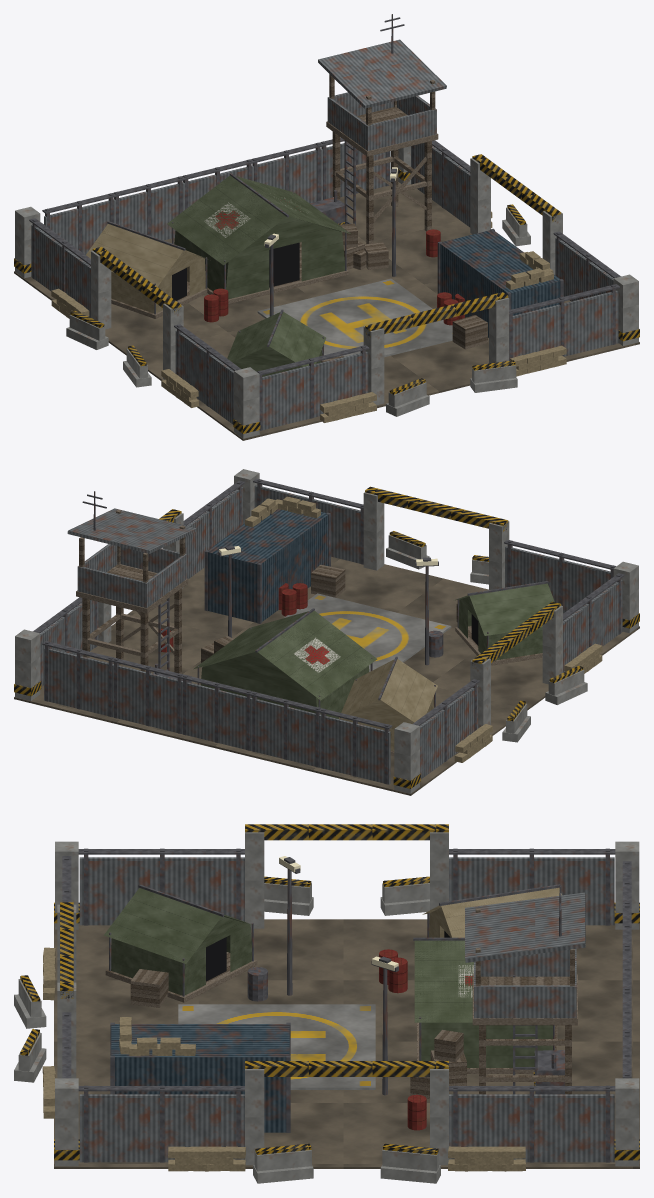
File: RefugeeCampBase.obj
3 renders of one model, top to bottom at view 1: azimuth 30°, elevation 25°; view 2: azimuth 150°, elevation 25°; view 3: azimuth 270°, elevation 25°, orthographic. The views are drawn at different scales.
Visible parts, largest first — view 1: RefugeeCampBase; view 2: RefugeeCampBase; view 3: RefugeeCampBase.
Boxes of the visible parts, bbox=[...] form: RefugeeCampBase: bbox=[14, 14, 639, 440]; RefugeeCampBase: bbox=[14, 469, 639, 795]; RefugeeCampBase: bbox=[14, 824, 639, 1183].
Size of the model in its own units: 20.92 by 8.8 by 19.66.
Materials: 15 (13 with a texture image).
